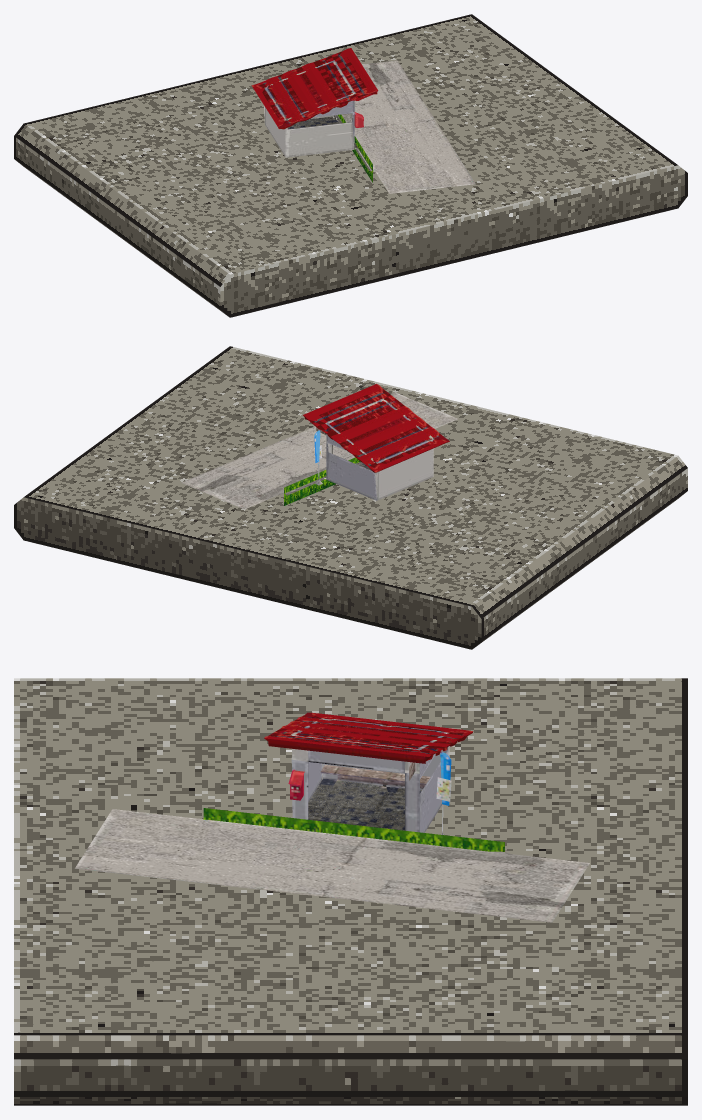
The model's file is busstop.glb.
3 renders of one model, top to bottom at view 1: azimuth 30°, elevation 25°; view 2: azimuth 150°, elevation 25°; view 3: azimuth 270°, elevation 25°, orthographic. The views are drawn at different scales.
Visible parts, largest first — view 1: base, model_m; view 2: base, model_m; view 3: base, model_m.
Part boxes in pixels (bbox=[...]): base: bbox=[14, 14, 687, 317]; model_m: bbox=[251, 48, 475, 193]; base: bbox=[14, 346, 687, 649]; model_m: bbox=[181, 384, 457, 509]; base: bbox=[14, 678, 687, 1105]; model_m: bbox=[75, 712, 589, 922].
Size of the model in its own units: 34 by 8.07 by 26.
2 materials, 2 textured.
